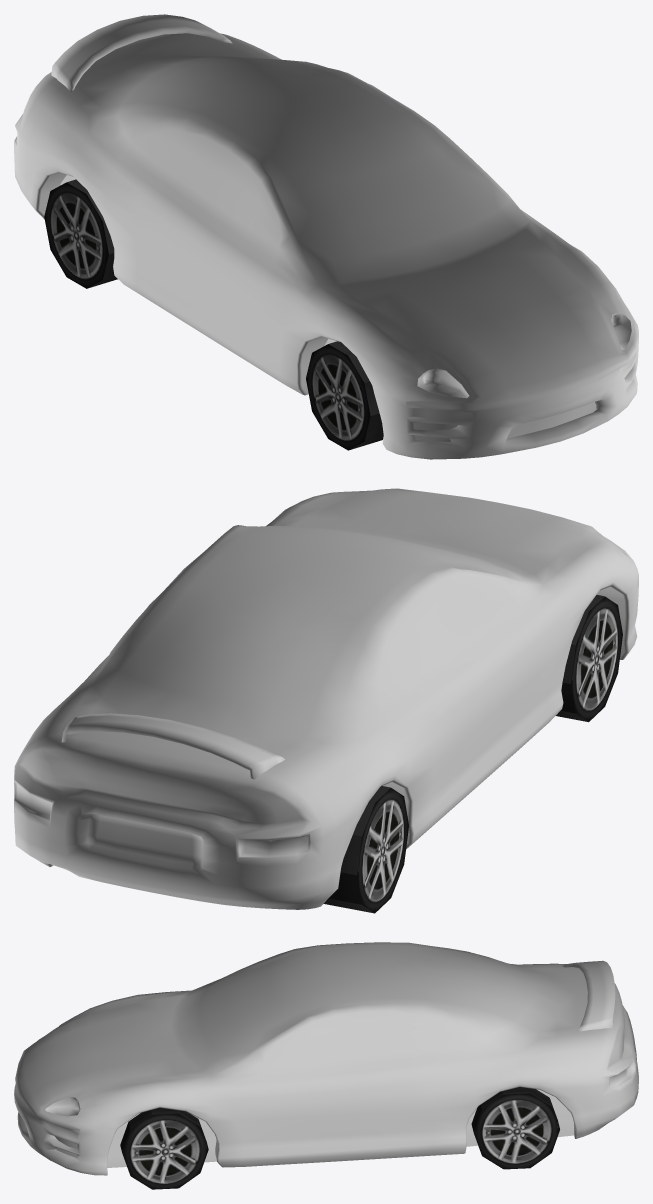
The model's file is Eclipse.FBX.
The picture shows the model from 3 angles, top to bottom: view 1: azimuth 30°, elevation 25°; view 2: azimuth 150°, elevation 25°; view 3: azimuth 270°, elevation 25°; orthographic projection. The views are drawn at different scales.
Parts seen in each view (by area): view 1: Object001; view 2: Object001; view 3: Object001.
Boxes of the visible parts, left/top/right/bottom form: Object001: left=14, top=14, right=638, bottom=459; Object001: left=14, top=488, right=638, bottom=913; Object001: left=14, top=942, right=638, bottom=1189.
Bounding box in the file's own units: 1.12 × 0.7053 × 2.46.
